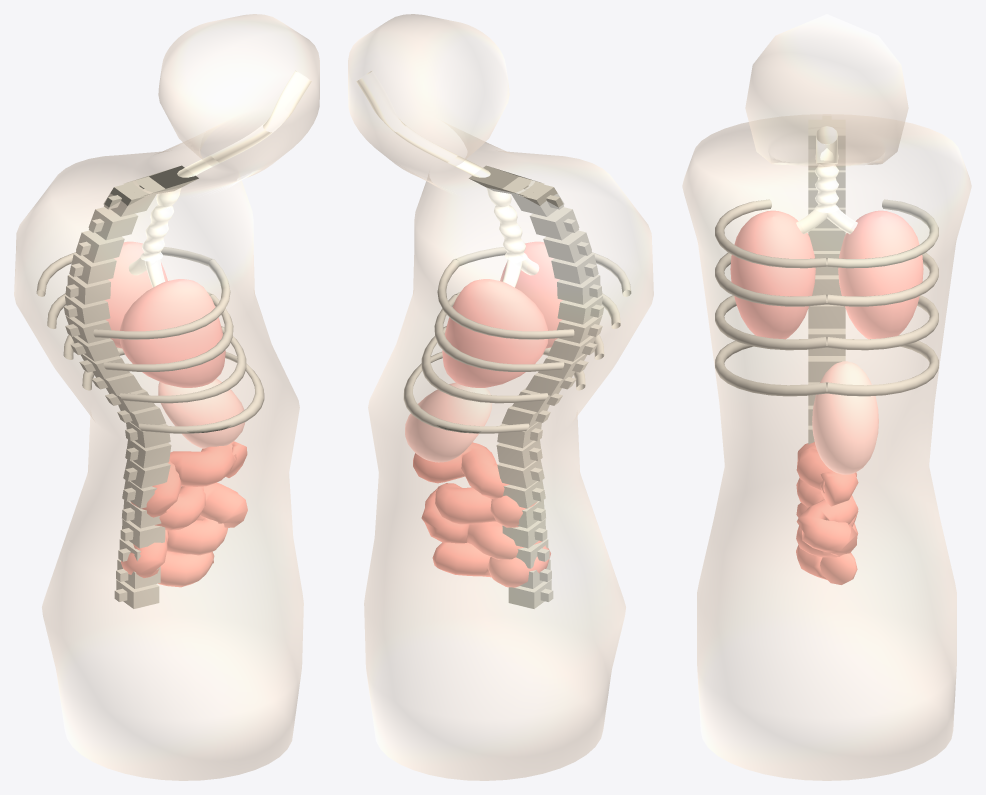
File: posture3d.glb
The picture shows the model from 3 angles, left to right: view 1: azimuth 30°, elevation 25°; view 2: azimuth 150°, elevation 25°; view 3: azimuth 270°, elevation 25°; orthographic projection. The views are drawn at different scales.
Parts seen in each view (by area): view 1: Body, Spine, Gut, Ribs, LungL, AirwayTube, Stomach, LungR; view 2: Body, Spine, Gut, Ribs, LungR, AirwayTube, Stomach, LungL; view 3: Body, Ribs, LungL, LungR, Gut, Spine, Stomach, AirwayTube.
Boxes of the visible parts, bbox=[...] form: Body: bbox=[14, 14, 319, 780]; Spine: bbox=[64, 165, 198, 608]; Gut: bbox=[121, 441, 247, 587]; Ribs: bbox=[36, 247, 264, 433]; LungL: bbox=[120, 279, 225, 387]; AirwayTube: bbox=[129, 70, 311, 287]; Stomach: bbox=[158, 379, 245, 448]; LungR: bbox=[105, 241, 167, 348]; Body: bbox=[348, 14, 653, 780]; Spine: bbox=[469, 165, 603, 608]; Gut: bbox=[413, 442, 550, 587]; Ribs: bbox=[403, 247, 631, 433]; LungR: bbox=[442, 279, 547, 387]; AirwayTube: bbox=[356, 70, 538, 287]; Stomach: bbox=[405, 382, 491, 462]; LungL: bbox=[500, 241, 562, 348]; Body: bbox=[682, 14, 971, 780]; Ribs: bbox=[715, 199, 938, 396]; LungL: bbox=[730, 210, 815, 339]; LungR: bbox=[838, 210, 923, 339]; Gut: bbox=[796, 442, 858, 584]; Spine: bbox=[808, 116, 845, 444]; Stomach: bbox=[812, 361, 878, 474]; AirwayTube: bbox=[796, 126, 857, 233].
Size of the model in its own units: 9.17 by 21.66 by 7.8.
